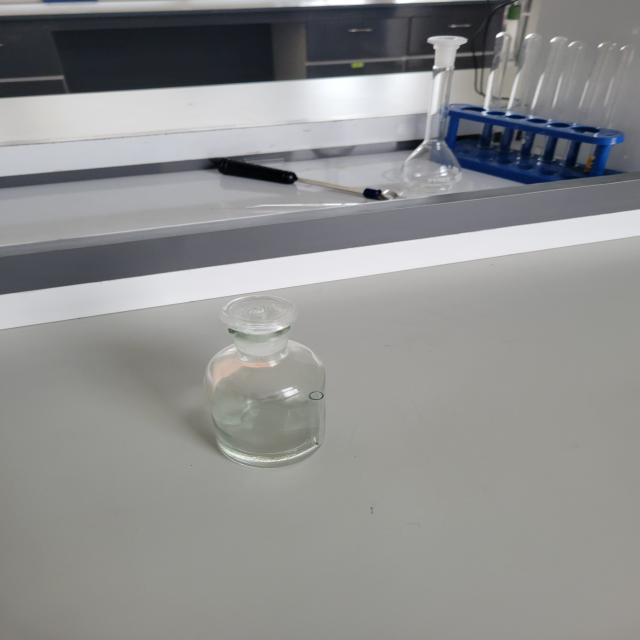Reagent_Bottle: (148, 280, 396, 488)
